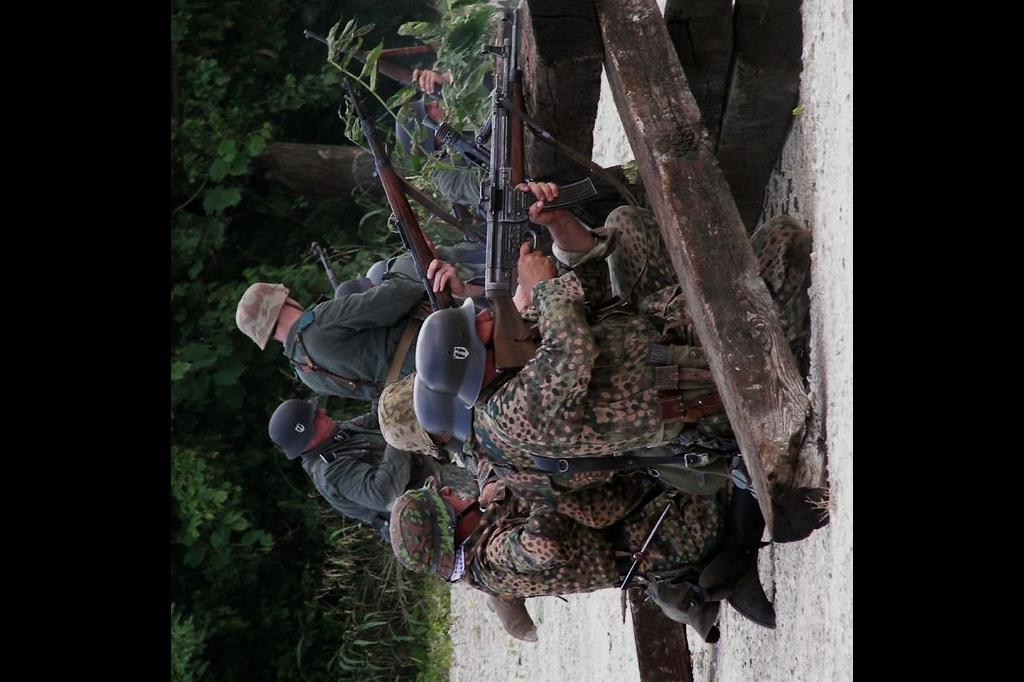gun: (469, 1, 600, 378), (336, 74, 462, 316)
